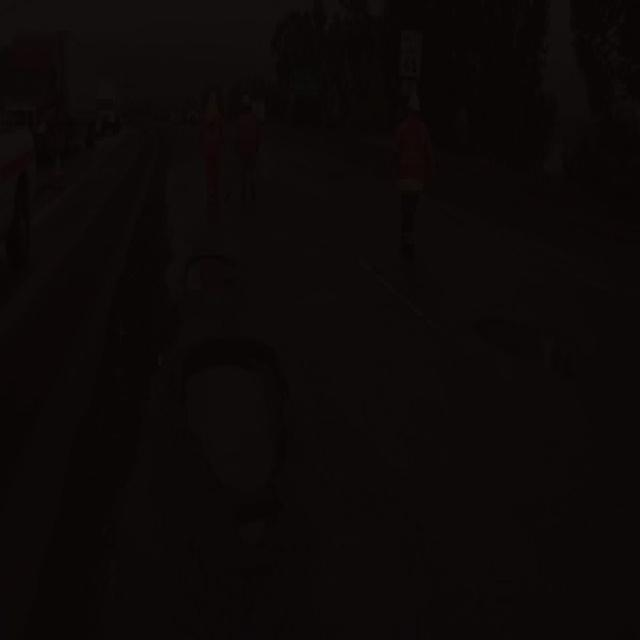Pothole: (170, 332, 296, 546), (479, 304, 583, 397), (172, 253, 247, 298)
